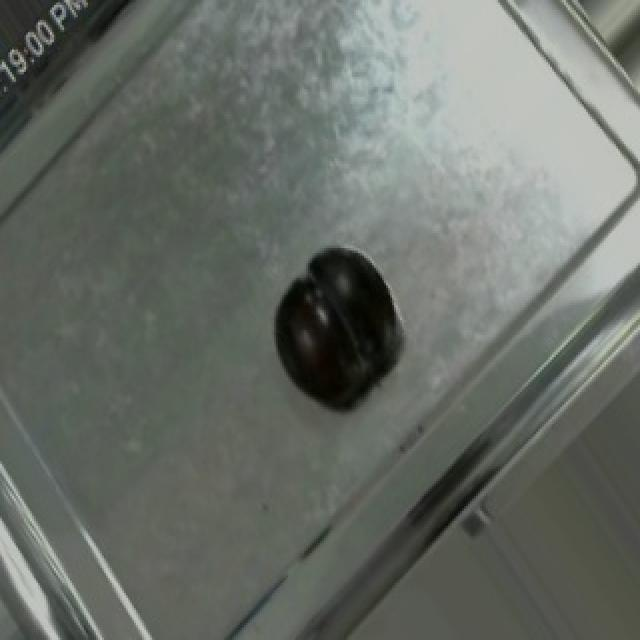Fruit: (254, 238, 410, 417)
